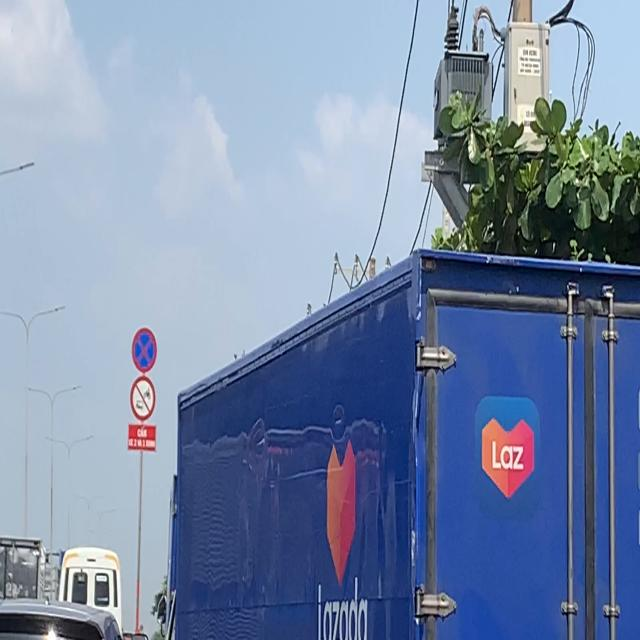Cam dung va do: (131, 327, 157, 373)
